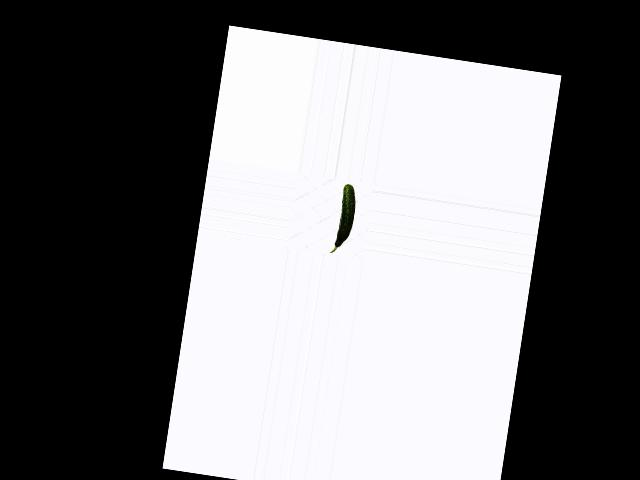cucumber: (330, 183, 358, 256)
